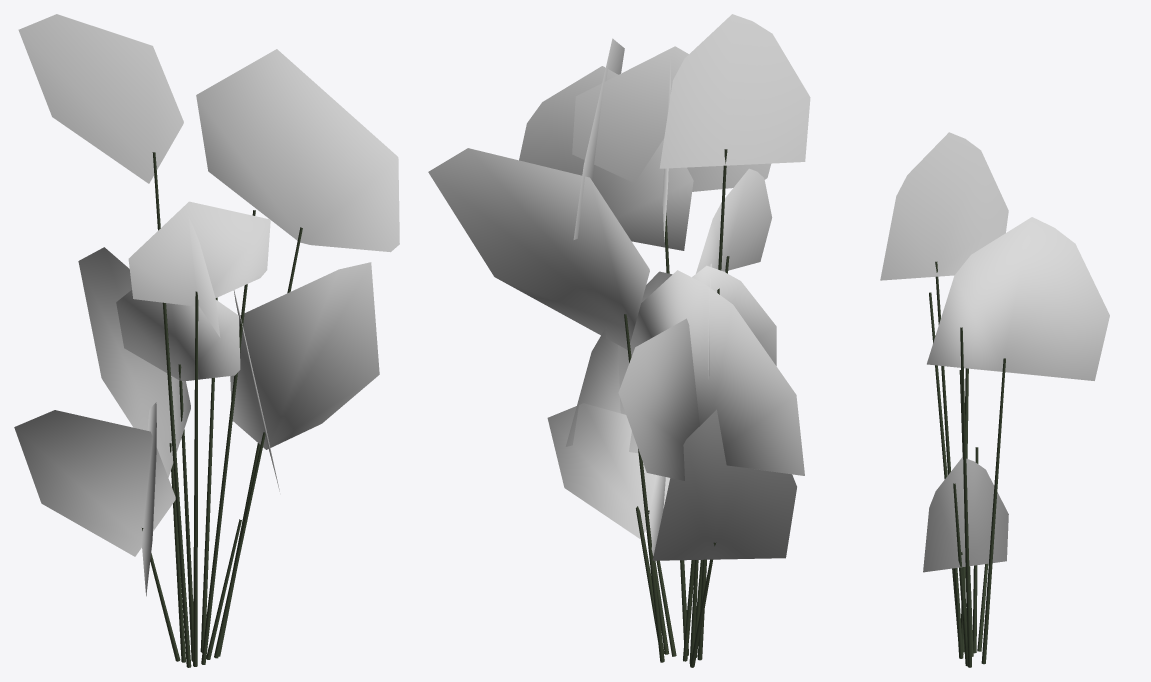
The model's file is bamboo_1.glb.
3 renders of one model, left to right at view 1: azimuth 30°, elevation 25°; view 2: azimuth 150°, elevation 25°; view 3: azimuth 270°, elevation 25°, orthographic. The views are drawn at different scales.
Parts seen in each view (by area): view 1: bamboo_1; view 2: bamboo_1; view 3: bamboo_1.
Part boxes in pixels (<box>): bamboo_1: <box>14,14,399,667</box>; bamboo_1: <box>428,14,810,667</box>; bamboo_1: <box>880,132,1109,667</box>.
Size of the model in its own units: 4.26 by 7.32 by 3.31.
